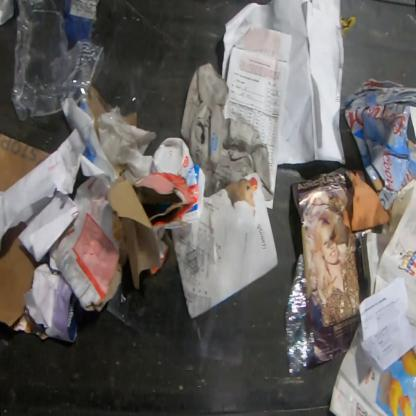cardboard: (18, 174, 125, 314), (340, 76, 415, 214), (115, 164, 200, 275), (328, 320, 415, 415), (108, 176, 160, 291), (0, 221, 38, 329), (0, 132, 53, 192)
rigid_plastic: (10, 0, 105, 123), (150, 135, 194, 178)
soft_plastic: (103, 150, 261, 367), (76, 0, 178, 175), (283, 252, 316, 380)
